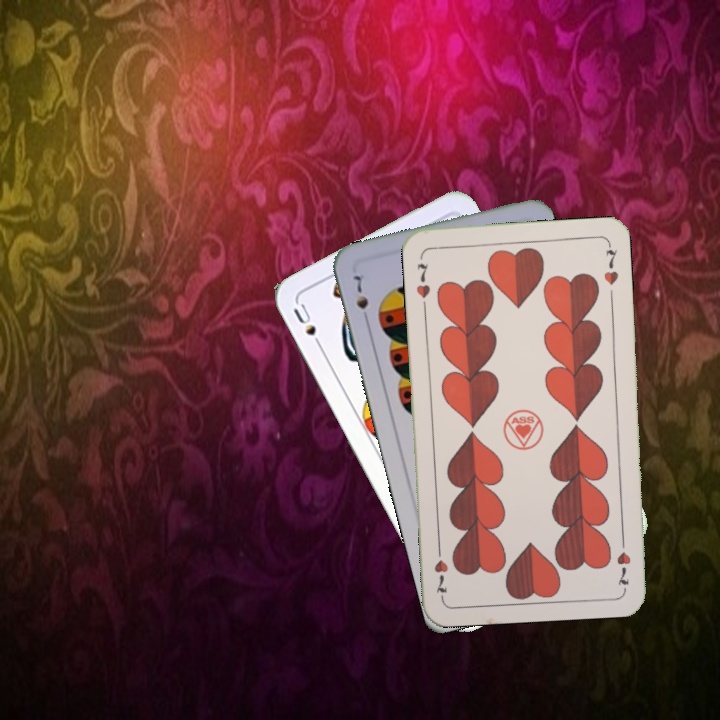H7: (612, 531, 634, 590), (412, 259, 433, 300)
S7: (349, 271, 372, 326)
SU: (289, 299, 327, 354)
